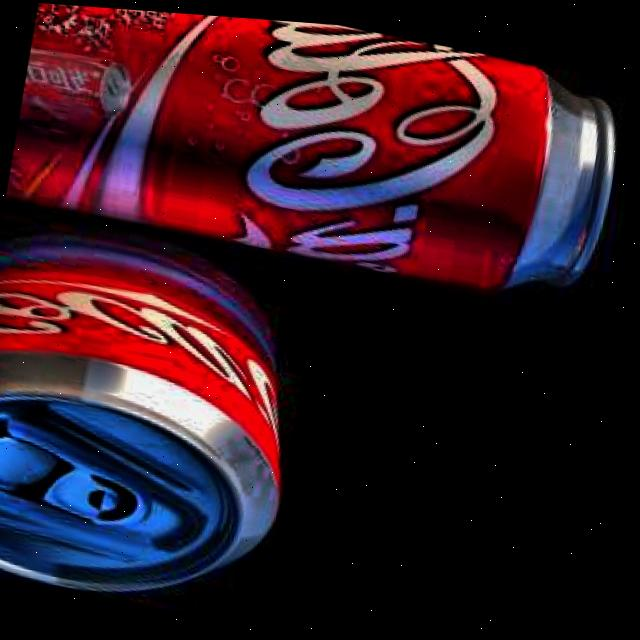metal: (1, 1, 640, 323), (0, 173, 339, 627)
